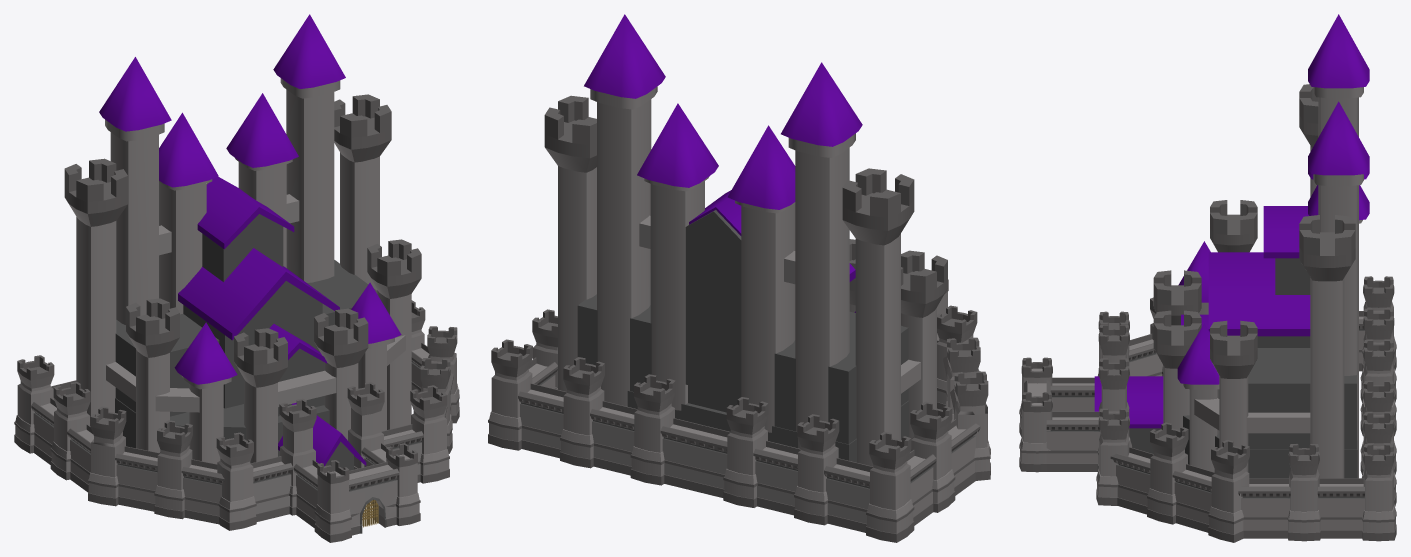
File: mesh_castle.fbx
3 views of the same model, side by side, from view 1: azimuth 30°, elevation 25°; view 2: azimuth 150°, elevation 25°; view 3: azimuth 270°, elevation 25° (orthographic). The views are drawn at different scales.
Visible parts, largest first — view 1: pCube157, Wall27; view 2: pCube157, Wall27; view 3: pCube157, Wall27.
Boxes of the visible parts, bbox=[...] form: pCube157: bbox=[64, 14, 421, 470]; Wall27: bbox=[14, 300, 459, 542]; pCube157: bbox=[544, 14, 947, 466]; Wall27: bbox=[488, 279, 990, 542]; pCube157: bbox=[1094, 14, 1369, 478]; Wall27: bbox=[1019, 276, 1396, 542].
Size of the model in its own units: 9736 by 9662 by 8360.
2 materials, 2 textured.
